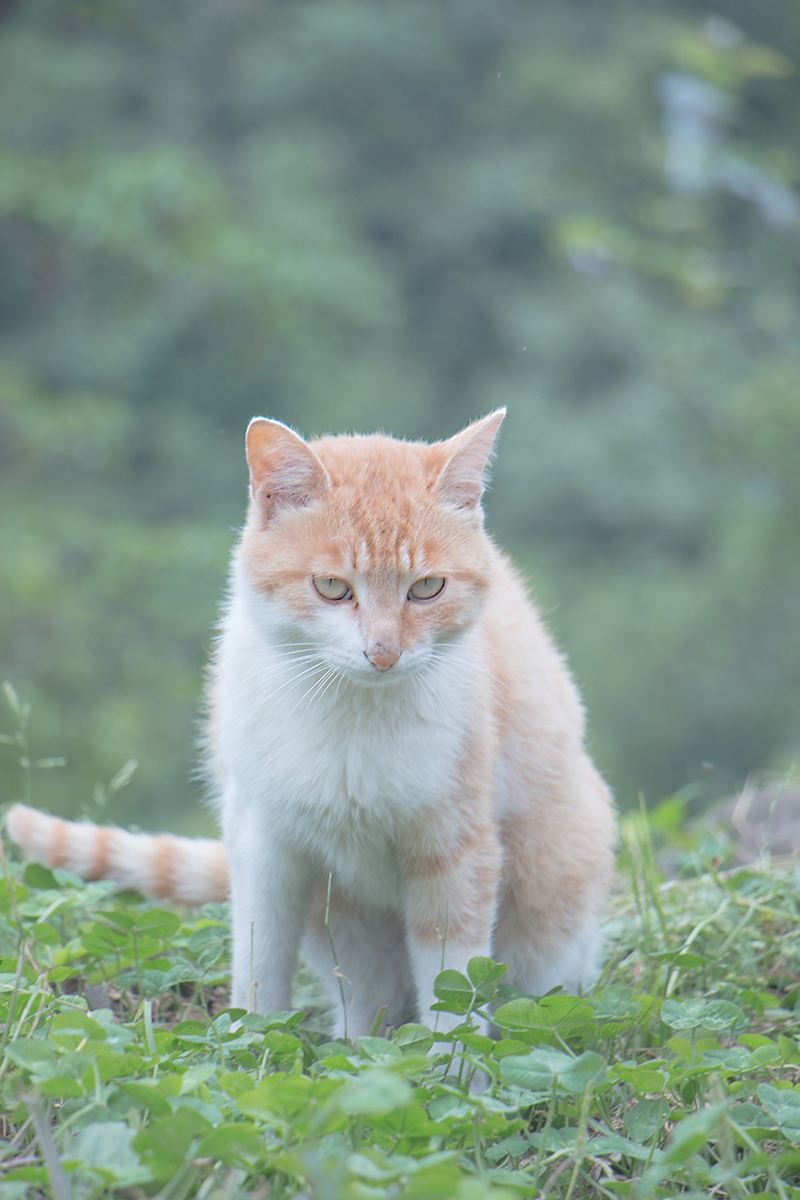cat: (213, 403, 615, 1007)
